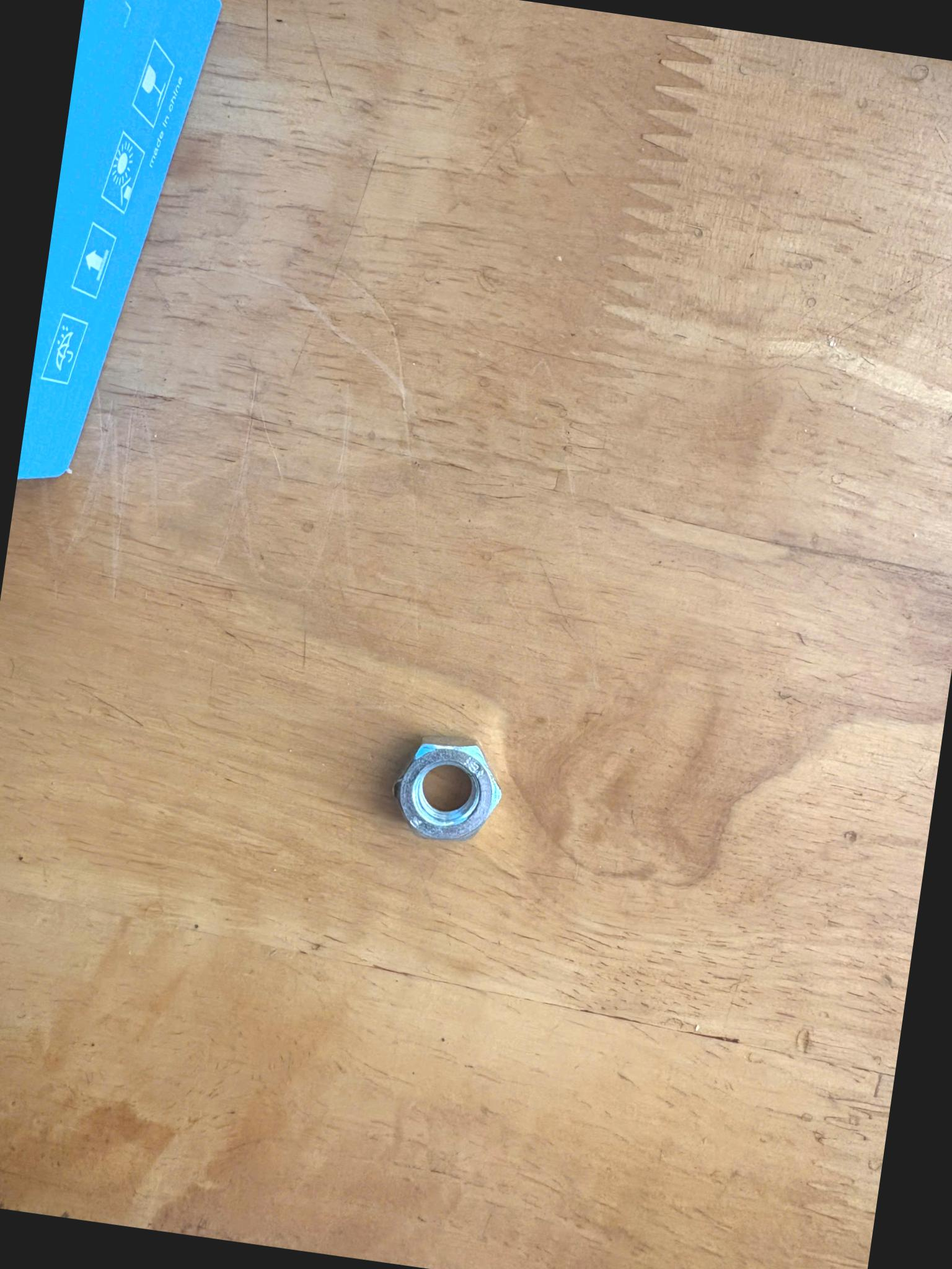nut: (380, 714, 536, 859)
